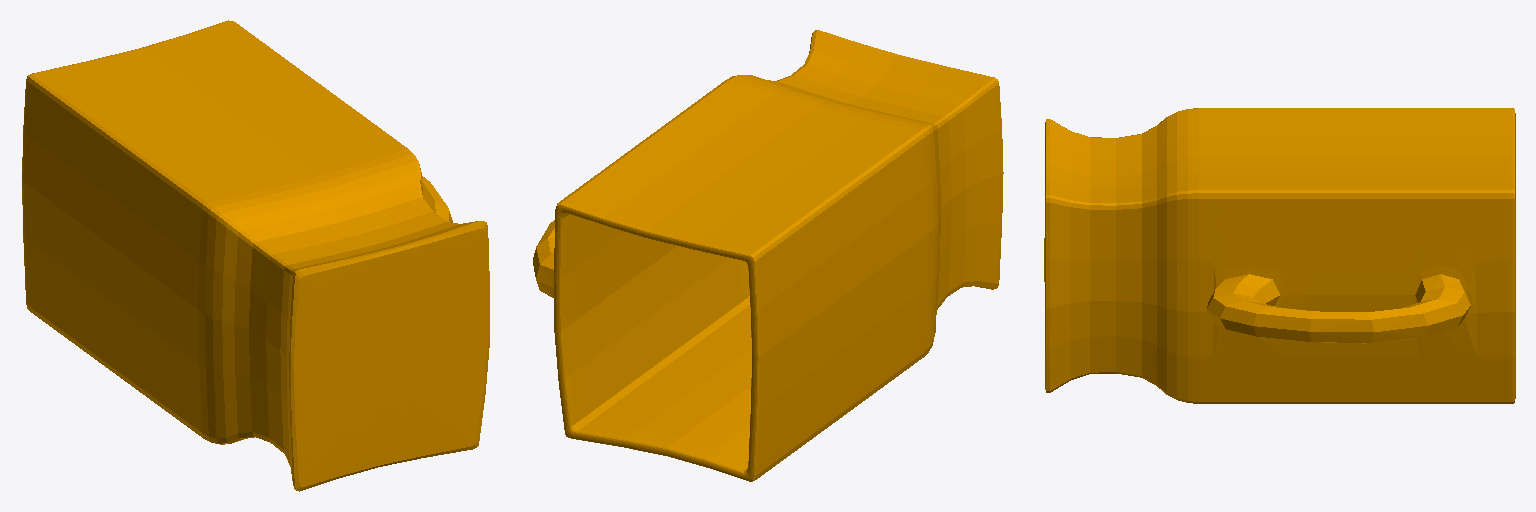
robot.urdf — 286:
<?xml version="1.0" ?>
<robot name="286">
  <link name="body">
    <visual>
      <geometry>
        <mesh filename="../shapes/286.obj"/>
      </geometry>
    </visual>
    <collision>
      <geometry>
        <mesh filename="../shapes/286.obj"/>
      </geometry>
    </collision>
  </link>
</robot>

--- What the picture shows (computed from the rendered views, not written in the file) ---
3 views of the same robot in one strip: view 1: azimuth 30°, elevation 25°; view 2: azimuth 150°, elevation 25°; view 3: azimuth 270°, elevation 25° (orthographic).
Model 286 with 1 links and 0 joints (none), rooted at body, posed every joint at zero.
Visible links, largest first — view 1: body; view 2: body; view 3: body.
Link boxes in pixels (x1,y1,x2,y2): body: (22,20,489,491); body: (533,30,1003,481); body: (1044,108,1515,403).
Size in the robot's own frame: 3.38 by 5.13 by 2.61 metres.
1 mesh visuals loaded from 1 distinct referenced files (1 OBJ).